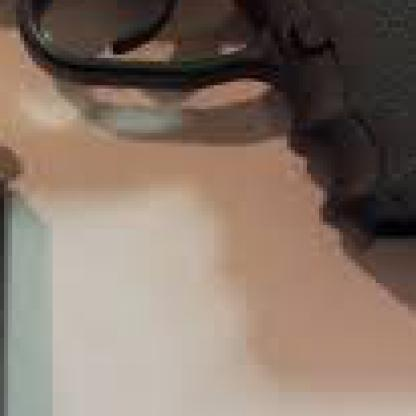gun: (0, 0, 412, 273)
